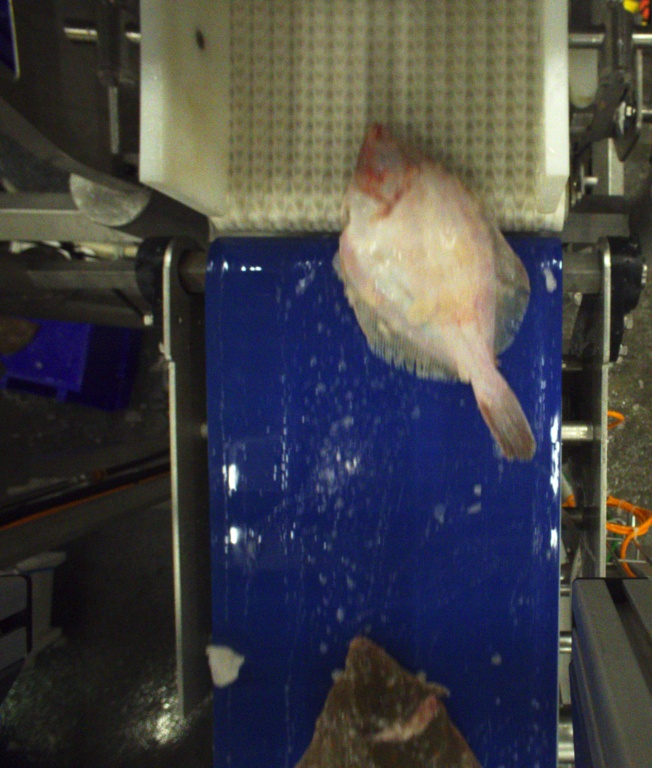PLE: (337, 123, 541, 461)
